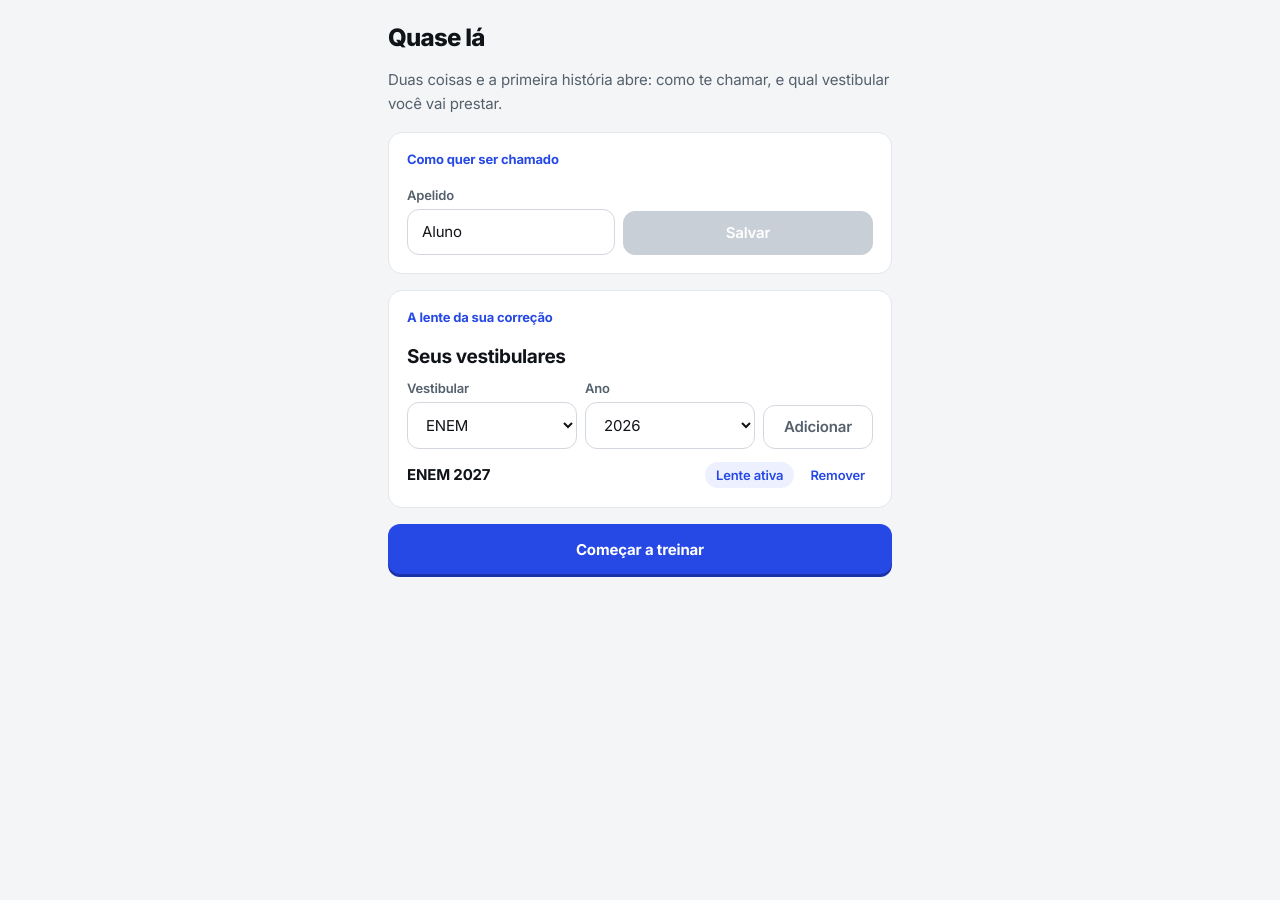
Test: onboarding › começar a treinar abre a trilha
What coordinates should you click on to do the following:
click the button "Começar a treinar"
I would click on:
 (640, 549)
Its box is x1=388 y1=524 x2=892 y2=574.
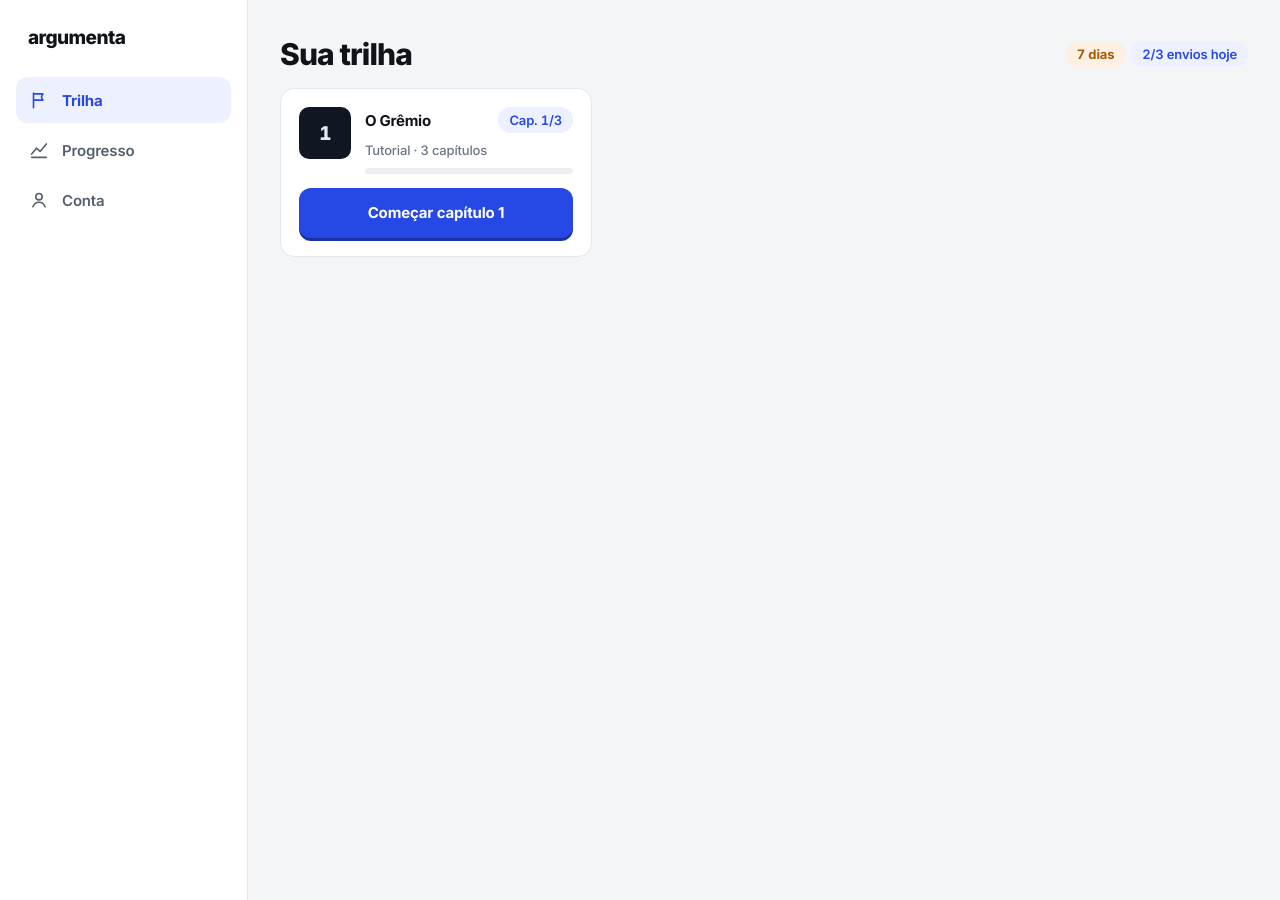
Result: the heading "Sua trilha" is shown at x1=280 y1=36 x2=412 y2=72
